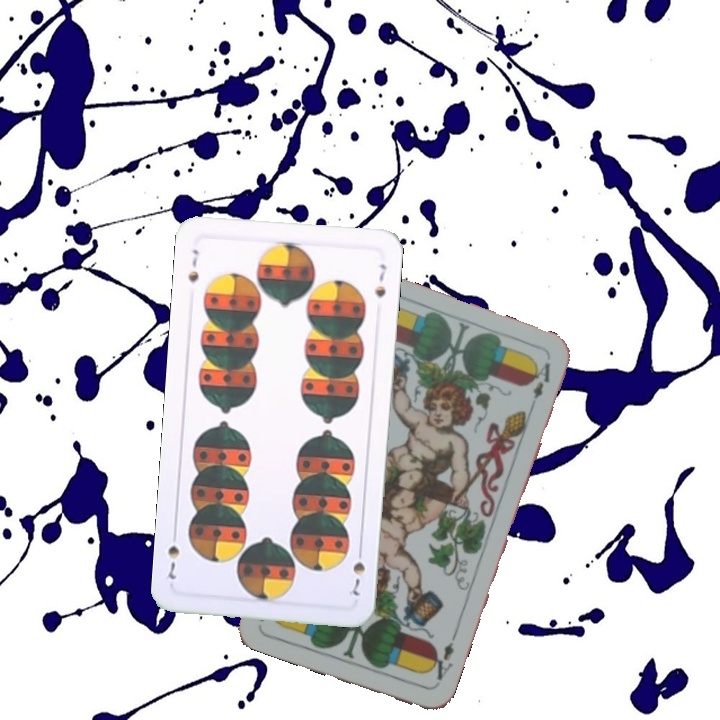EA: (424, 631, 459, 684)
S7: (348, 543, 368, 599), (184, 245, 202, 285)
